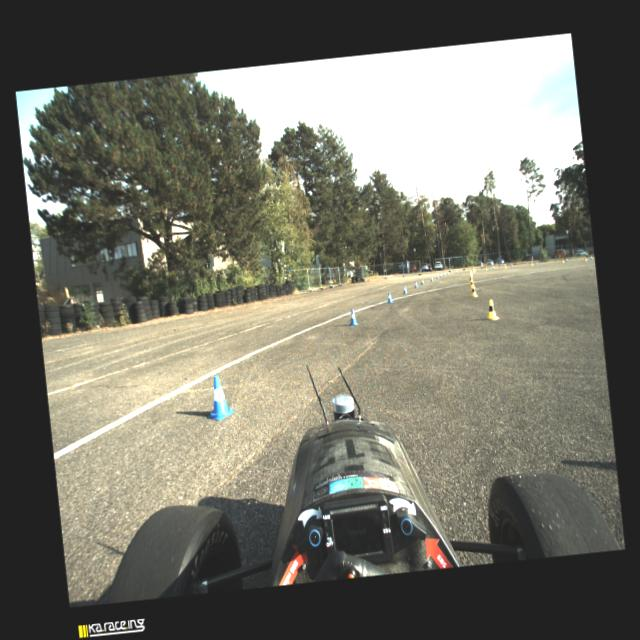blue_cone: (202, 373, 236, 421), (348, 308, 358, 326), (386, 291, 393, 303), (402, 284, 407, 294), (414, 280, 418, 288), (420, 278, 424, 284), (430, 276, 433, 282), (565, 257, 568, 262), (590, 255, 592, 260), (455, 270, 457, 274), (446, 270, 448, 274), (442, 272, 444, 276), (439, 273, 441, 277), (436, 274, 438, 278), (534, 260, 536, 264), (510, 263, 512, 266), (492, 265, 494, 268)
yellow_cone: (485, 298, 499, 320), (470, 284, 478, 298), (469, 278, 475, 288), (583, 256, 587, 261), (468, 274, 472, 279), (561, 258, 563, 262), (530, 261, 532, 265), (504, 264, 506, 268), (485, 266, 487, 270), (473, 268, 475, 272)
